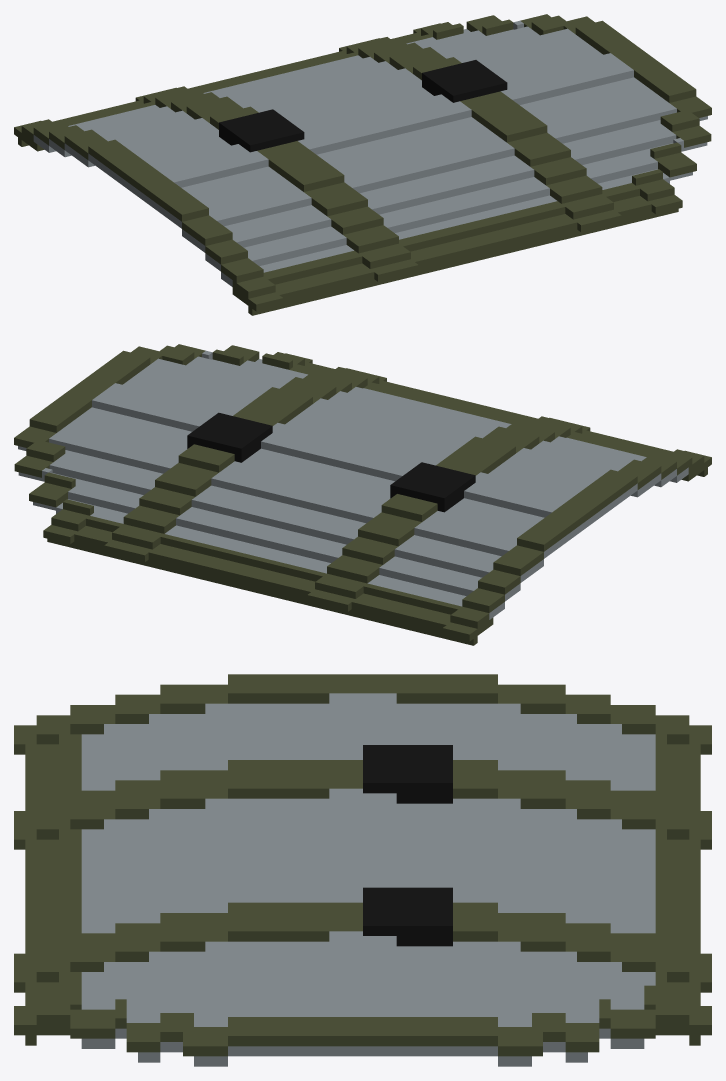
File: lc_esapi_plate.glb
The picture shows the model from 3 angles, top to bottom: view 1: azimuth 30°, elevation 25°; view 2: azimuth 150°, elevation 25°; view 3: azimuth 270°, elevation 25°; orthographic projection. The views are drawn at different scales.
Parts seen in each view (by area): view 1: lc_esapi_plate:compound; view 2: lc_esapi_plate:compound; view 3: lc_esapi_plate:compound.
Boxes of the visible parts, bbox=[...] form: lc_esapi_plate:compound: bbox=[14, 14, 711, 315]; lc_esapi_plate:compound: bbox=[14, 344, 711, 645]; lc_esapi_plate:compound: bbox=[14, 674, 711, 1066].
Size of the model in its own units: 0.304 by 0.032 by 0.248.
